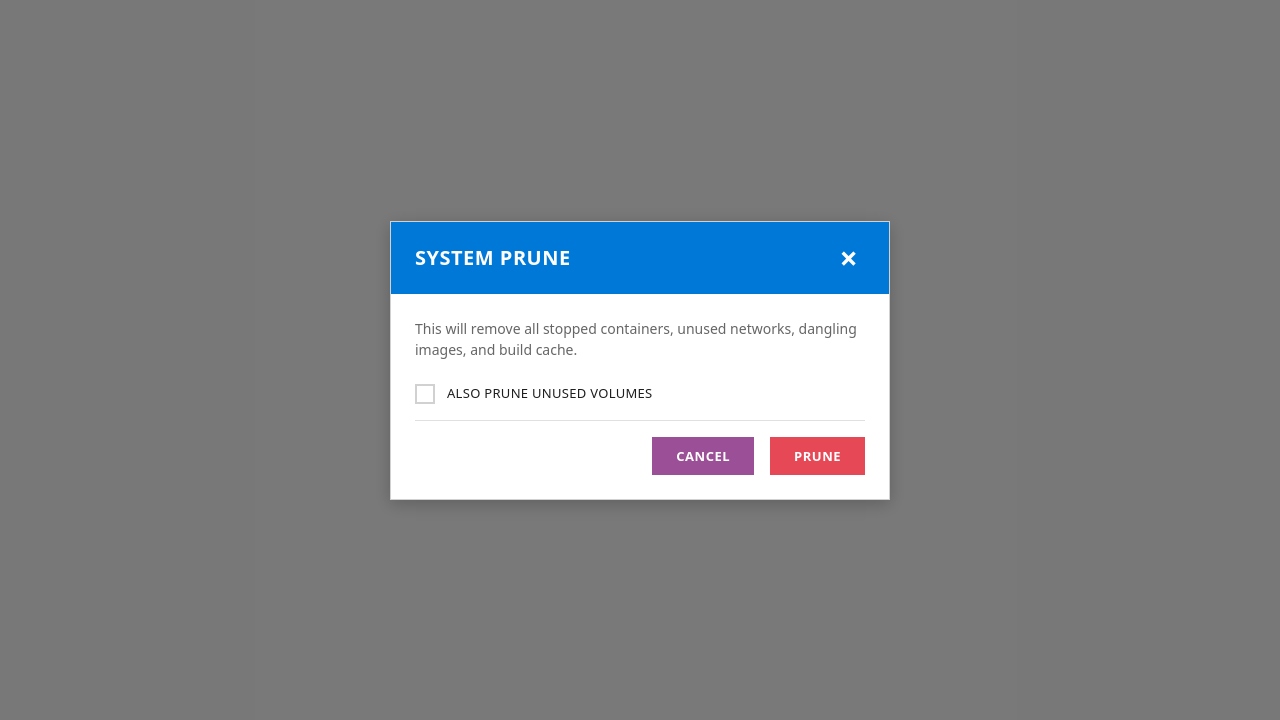
it: SystemPrune › shows error on prune failure
The image size is (1280, 720).
Click the button "Prune" at [818, 456], box left=770, top=436, right=865, bottom=474
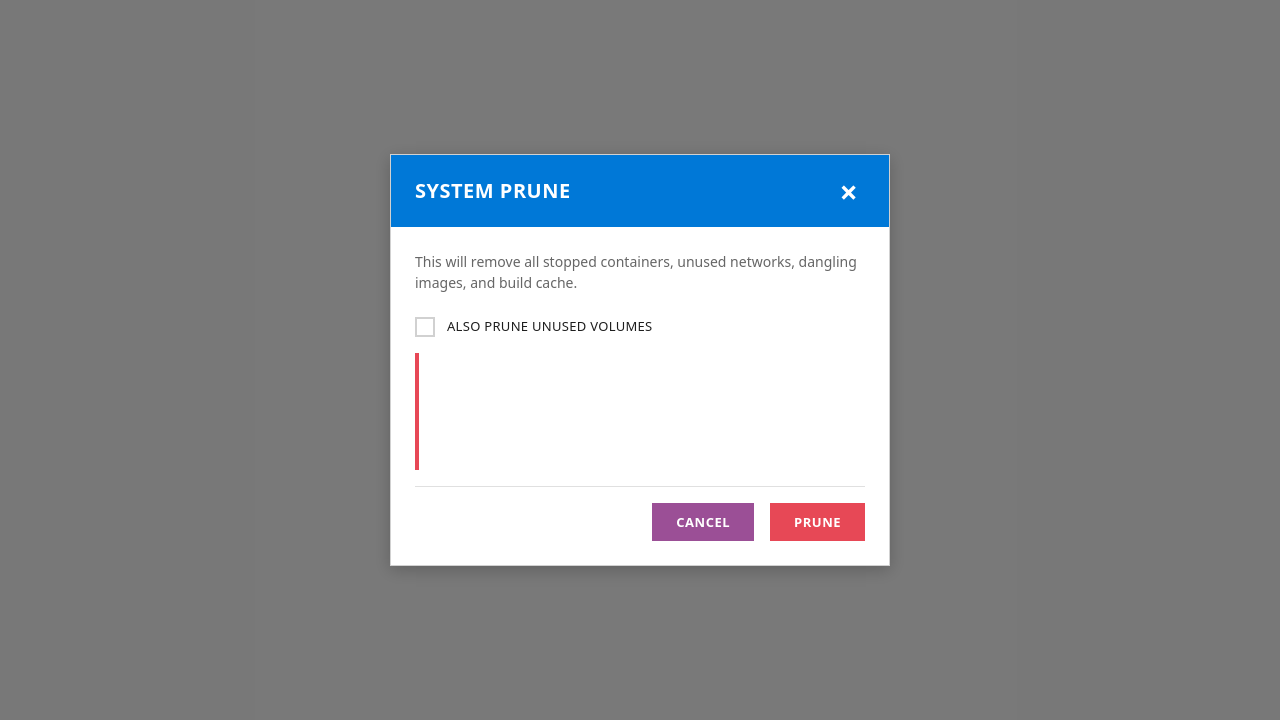
Expected: the text "Permission denied" is shown, left=415, top=353, right=865, bottom=470
